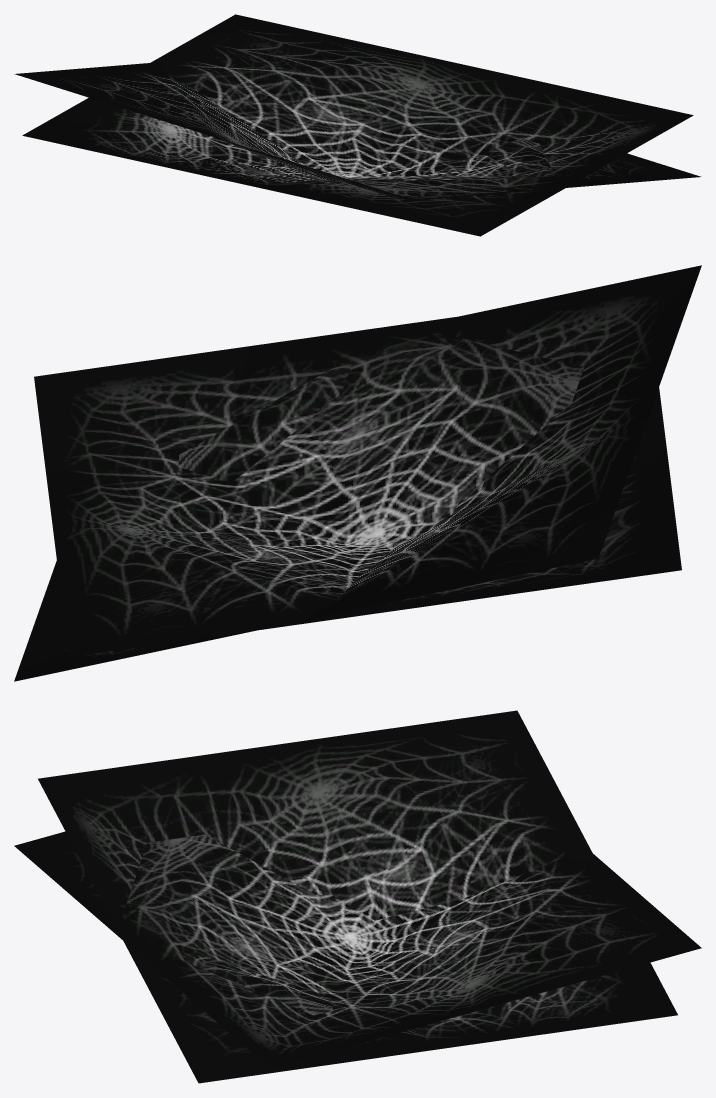
File: DWARF_PALACE_SPIDERWEB02.fbx
3 renders of one model, top to bottom at view 1: azimuth 30°, elevation 25°; view 2: azimuth 150°, elevation 25°; view 3: azimuth 270°, elevation 25°, orthographic. The views are drawn at different scales.
Visible parts, largest first — view 1: DWARF_PALACE_SPIDERWEB02; view 2: DWARF_PALACE_SPIDERWEB02; view 3: DWARF_PALACE_SPIDERWEB02.
Boxes of the visible parts, x1,y1,x2,y2 form: DWARF_PALACE_SPIDERWEB02: (14,14,701,236); DWARF_PALACE_SPIDERWEB02: (14,265,701,681); DWARF_PALACE_SPIDERWEB02: (14,710,701,1083).
Bounding box in the file's own units: 98721 × 22079 × 100661.
1 material, 1 textured.
